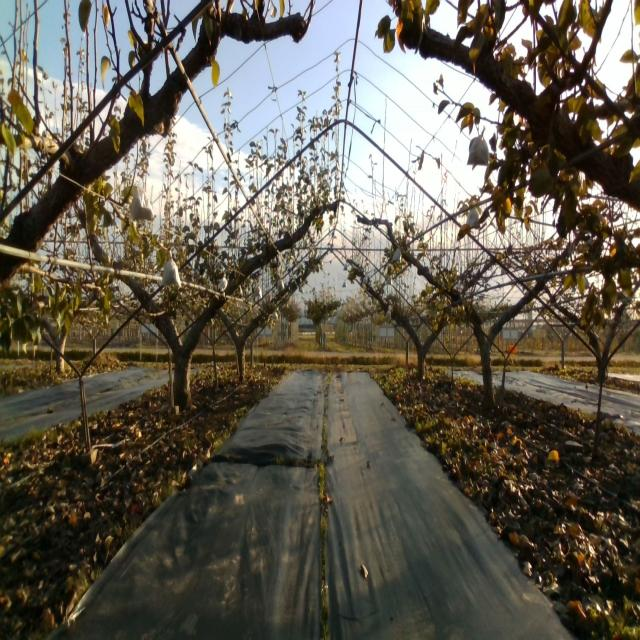pearbags: (128, 185, 155, 224), (466, 125, 490, 165), (162, 249, 182, 288), (466, 208, 479, 230)
